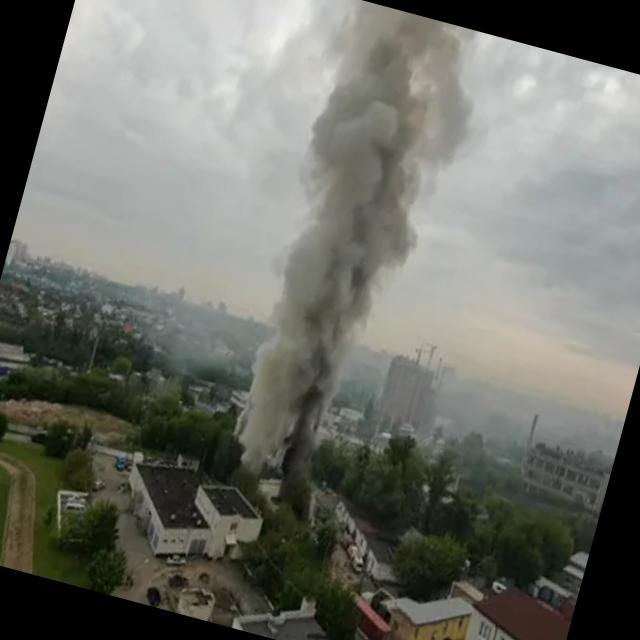Smoke: (195, 0, 499, 507)
